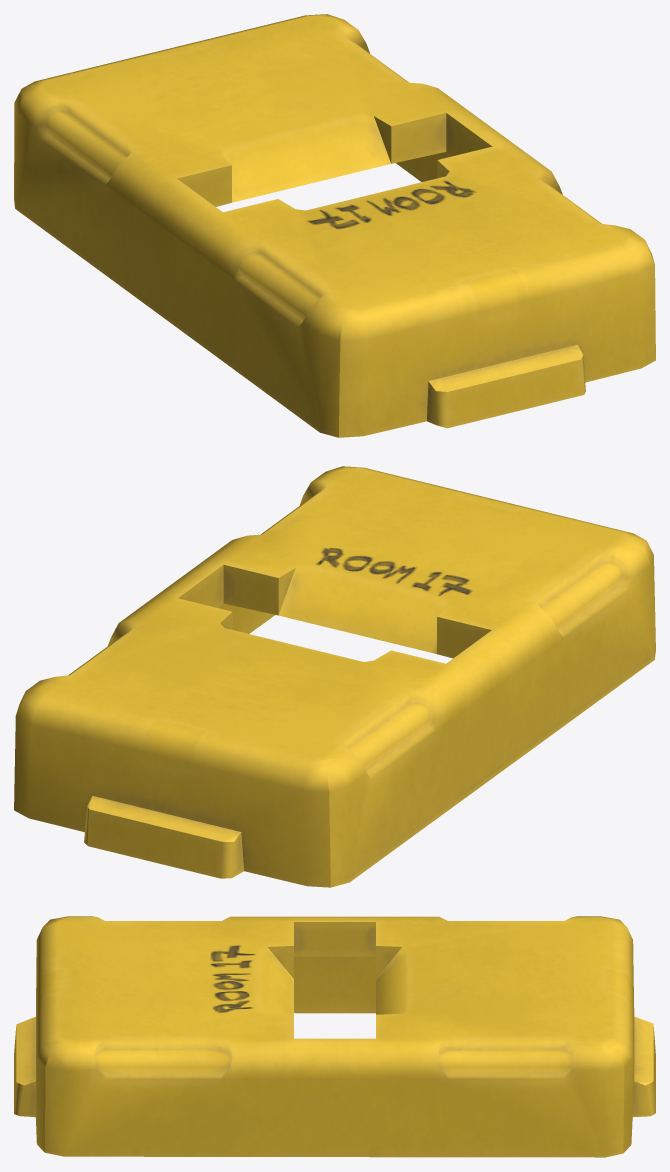
File: SM_Calculator_And_Case_01c.fbx
3 renders of one model, top to bottom at view 1: azimuth 30°, elevation 25°; view 2: azimuth 150°, elevation 25°; view 3: azimuth 270°, elevation 25°, orthographic. The views are drawn at different scales.
Visible parts, largest first — view 1: SM_Calculator_And_Case_01c_LOD0; view 2: SM_Calculator_And_Case_01c_LOD0; view 3: SM_Calculator_And_Case_01c_LOD0.
Part boxes in pixels (x1=…): SM_Calculator_And_Case_01c_LOD0: x1=14, y1=14, x2=655, y2=437; SM_Calculator_And_Case_01c_LOD0: x1=14, y1=466, x2=655, y2=887; SM_Calculator_And_Case_01c_LOD0: x1=14, y1=916, x2=655, y2=1157.
Bounding box in the file's own units: 17.06 × 31.69 × 5.66.
